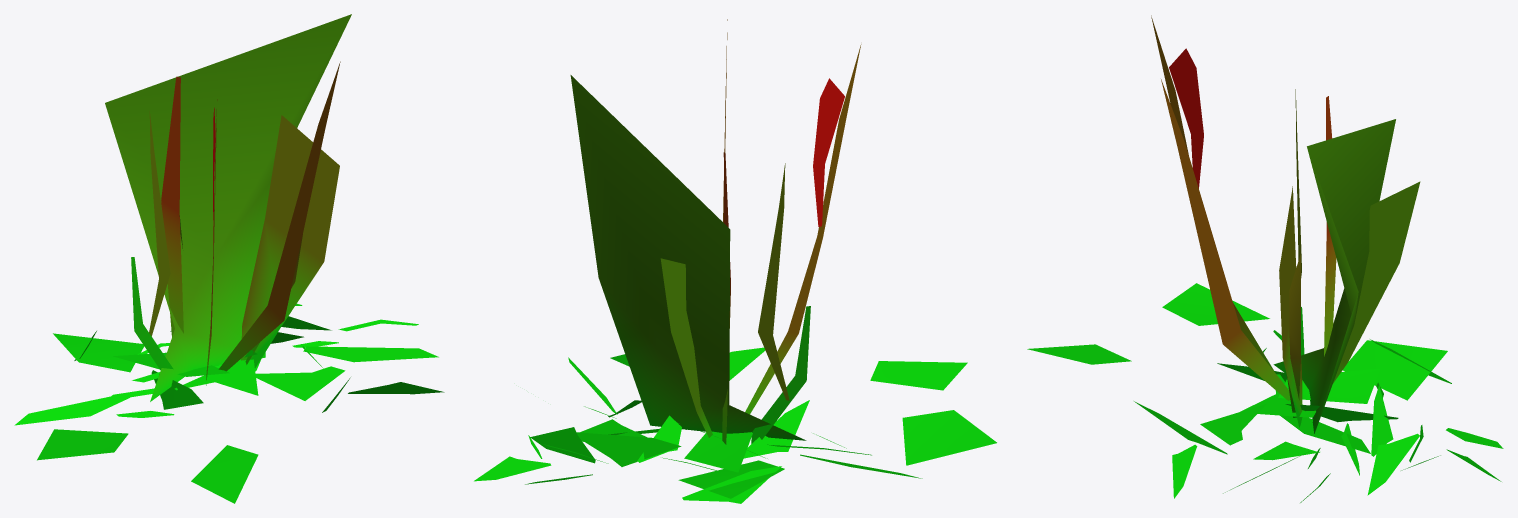
File: Dead Shrubs_LOD2_Var2_vdknafgha.fbx
3 renders of one model, left to right at view 1: azimuth 30°, elevation 25°; view 2: azimuth 150°, elevation 25°; view 3: azimuth 270°, elevation 25°, orthographic.
Visible parts, largest first — view 1: _31fg_Var2_LOD2; view 2: _31fg_Var2_LOD2; view 3: _31fg_Var2_LOD2.
Part boxes in pixels (x1,y1,x2,y2): _31fg_Var2_LOD2: (14, 14, 444, 503); _31fg_Var2_LOD2: (474, 19, 996, 503); _31fg_Var2_LOD2: (1027, 15, 1503, 502).
Size of the model in its own units: 42.54 by 34.55 by 40.17.
